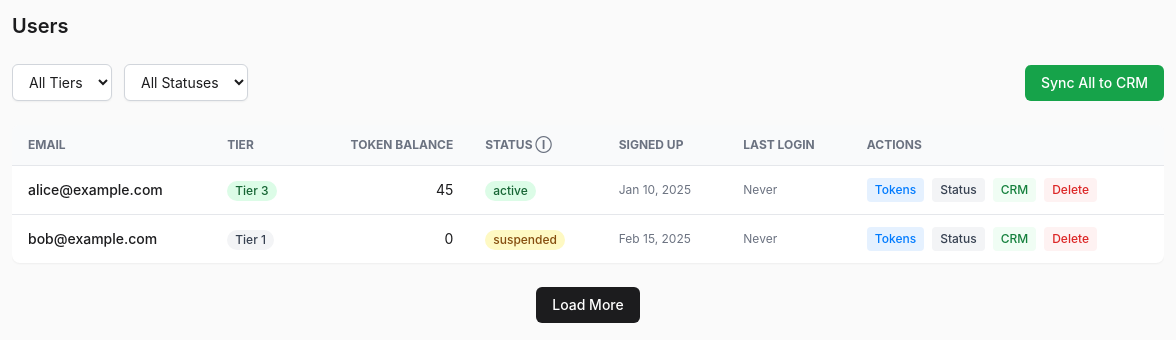
Test: AdminUsersPage › adjustTokens updates balance on success
Expected: the text "alice@example.com" is shown, [12,166,211,214]
Click the button "Tokens" in the row of "alice@example.com": (895, 190) [867,178,924,202]
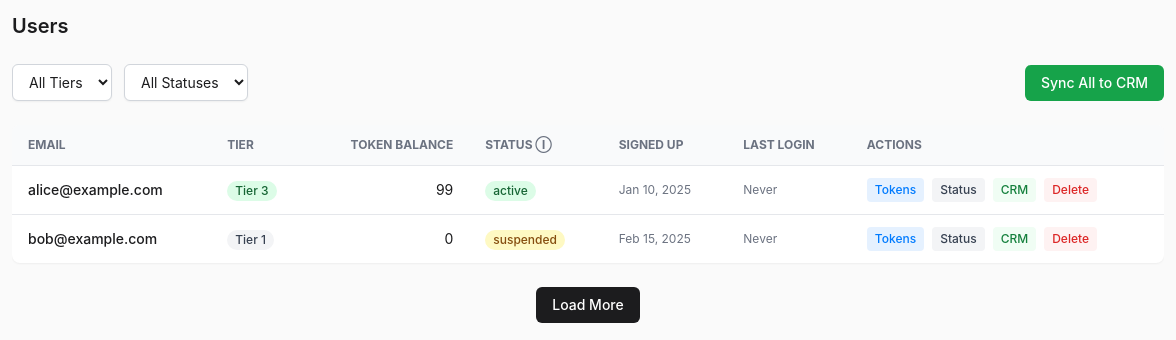
Expected: the text "99" is shown, [308,166,469,214]
